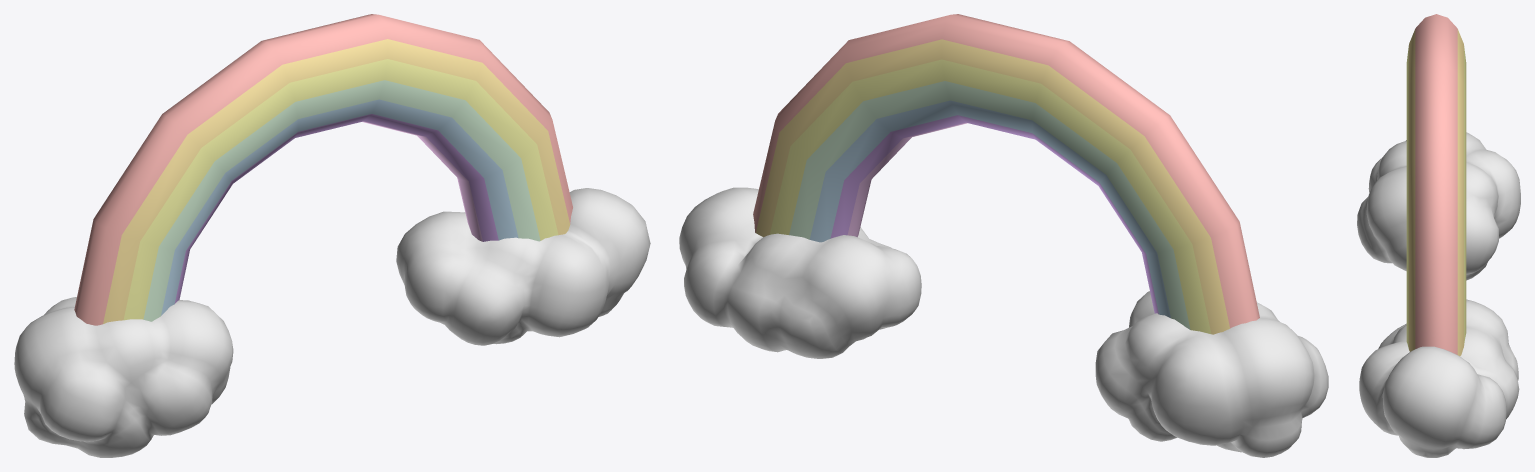
File: Rainbow.fbx
3 views of the same model, side by side, from view 1: azimuth 30°, elevation 25°; view 2: azimuth 150°, elevation 25°; view 3: azimuth 270°, elevation 25° (orthographic). The views are drawn at different scales.
Parts seen in each view (by area): view 1: Rainbow, RTClouds, LTClouds; view 2: Rainbow, LTClouds, RTClouds; view 3: Rainbow, LTClouds, RTClouds.
Boxes of the visible parts, box(x1,y1,x2,y2) form: Rainbow: box(74, 14, 572, 325); RTClouds: box(14, 297, 233, 457); LTClouds: box(396, 188, 650, 345); Rainbow: box(753, 14, 1259, 334); LTClouds: box(679, 187, 921, 358); RTClouds: box(1095, 291, 1328, 457); Rainbow: box(1406, 14, 1466, 355); LTClouds: box(1359, 299, 1519, 457); RTClouds: box(1357, 132, 1520, 280).
Size of the model in its own units: 97.12 by 55.01 by 25.49.
